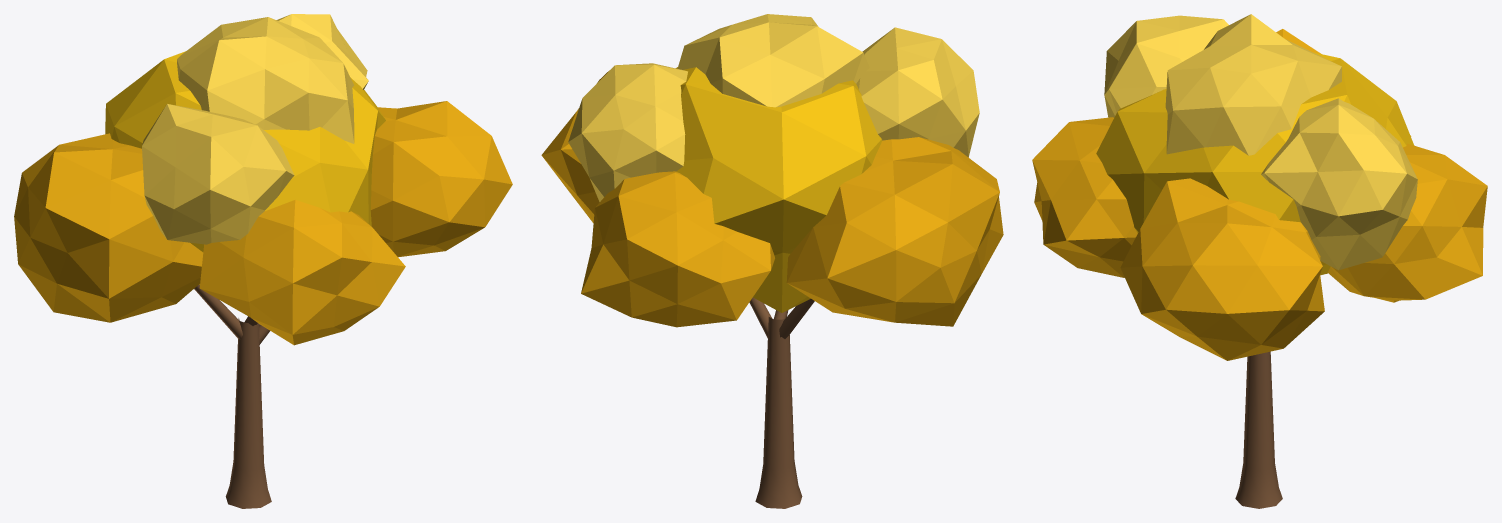
File: arvore-ipe-amarelo.glb
3 renders of one model, left to right at view 1: azimuth 30°, elevation 25°; view 2: azimuth 150°, elevation 25°; view 3: azimuth 270°, elevation 25°, orthographic. The views are drawn at different scales.
Visible parts, largest first — view 1: Copa, Tronco; view 2: Copa, Tronco; view 3: Copa, Tronco.
Boxes of the visible parts, x1,y1,x2,y2 form: Copa: [14, 14, 512, 345]; Tronco: [194, 285, 271, 508]; Copa: [541, 14, 1003, 327]; Tronco: [749, 297, 814, 508]; Copa: [1032, 14, 1487, 360]; Tronco: [1235, 351, 1282, 508].
Bounding box in the file's own units: 6.33 × 6.51 × 5.74.
